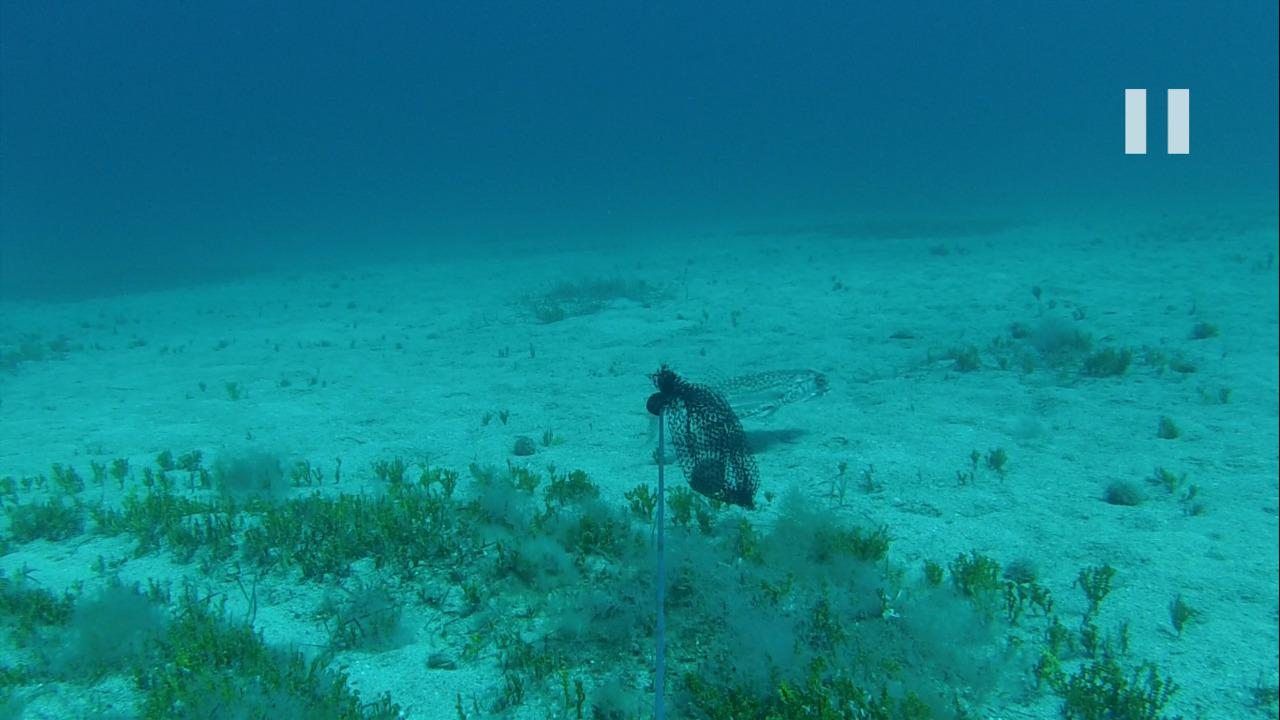dactylopterus: (716, 363, 830, 419)
